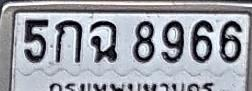5: (24, 18, 48, 62)
6: (191, 19, 213, 63), (220, 20, 241, 63)
8: (132, 20, 154, 63)
9: (161, 20, 184, 63)
A01: (54, 19, 82, 63)
A09: (89, 20, 118, 62)
